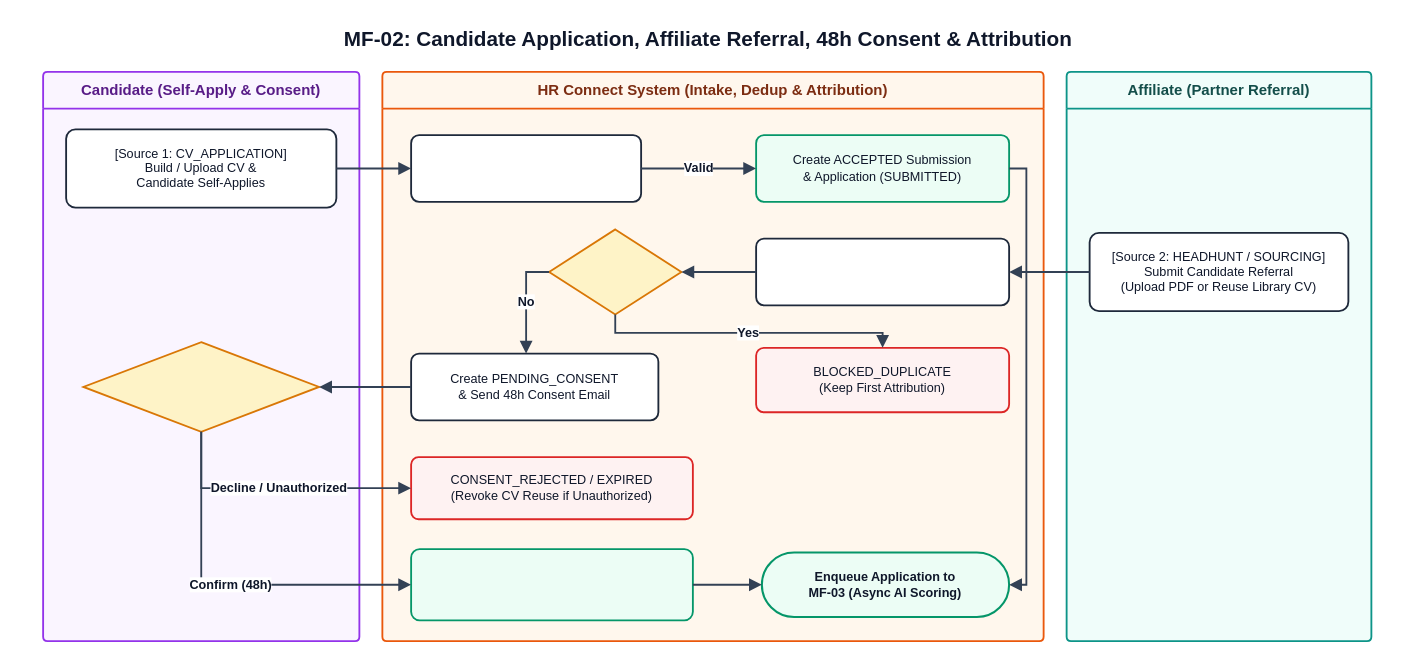
Some shapes in this 1413 by 661 pixel diagram are drawn without their labels. The shapes that lost their labels are listed below. From the top down, each one's centre as x and y in pixels, then its label:
At (525,168): "Validate Active Job & Same-Job Duplicate Check".
At (615,271): "Duplicate?".
At (882,271): "Strict Identity Match, Client Ownership & Dedup".
At (200,386): "Respond to 48h Referral Consent?".
At (551,584): "Create ACCEPTED Submission, Application & First Attribution".
